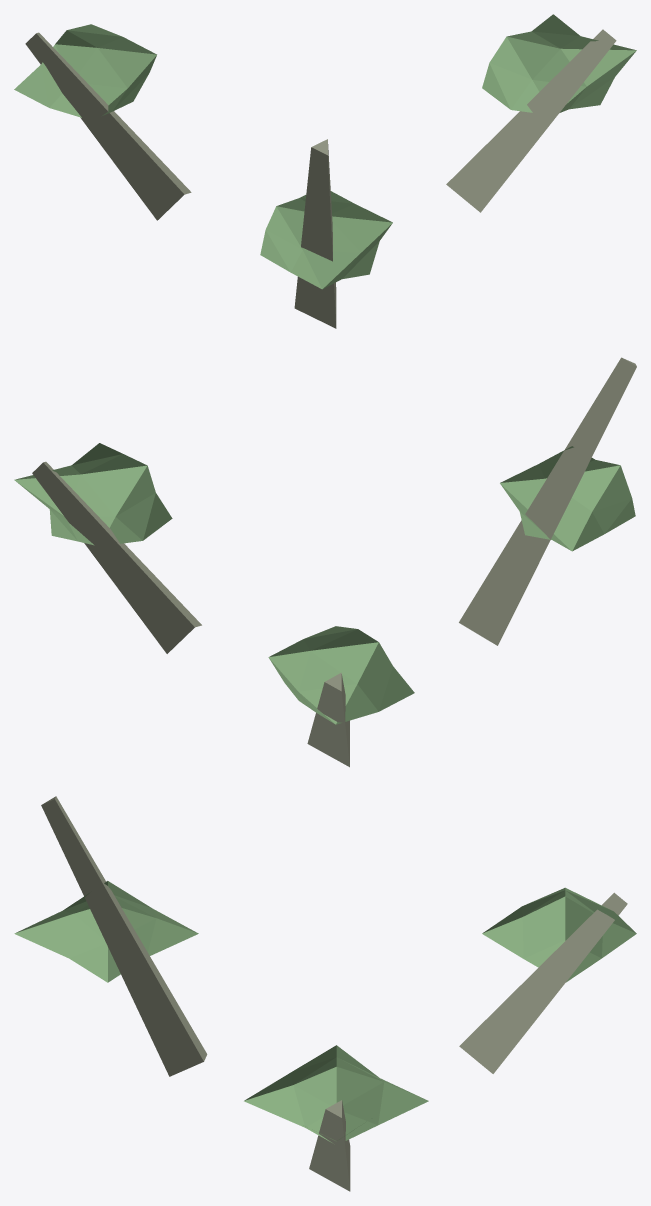
Rendered from bramble_v12.glb.
The picture shows the model from 3 angles, top to bottom: view 1: azimuth 30°, elevation 25°; view 2: azimuth 150°, elevation 25°; view 3: azimuth 270°, elevation 25°; orthographic projection. The views are drawn at different scales.
Visible parts, largest first — view 1: lod0; view 2: lod0; view 3: lod0.
Boxes of the visible parts, box(x1,y1,x2,y2) form: lod0: box(14, 14, 636, 328); lod0: box(14, 357, 636, 767); lod0: box(14, 796, 636, 1191).
Size of what is drawn, in the model's own units: 0.5272 by 0.2511 by 0.5662.
